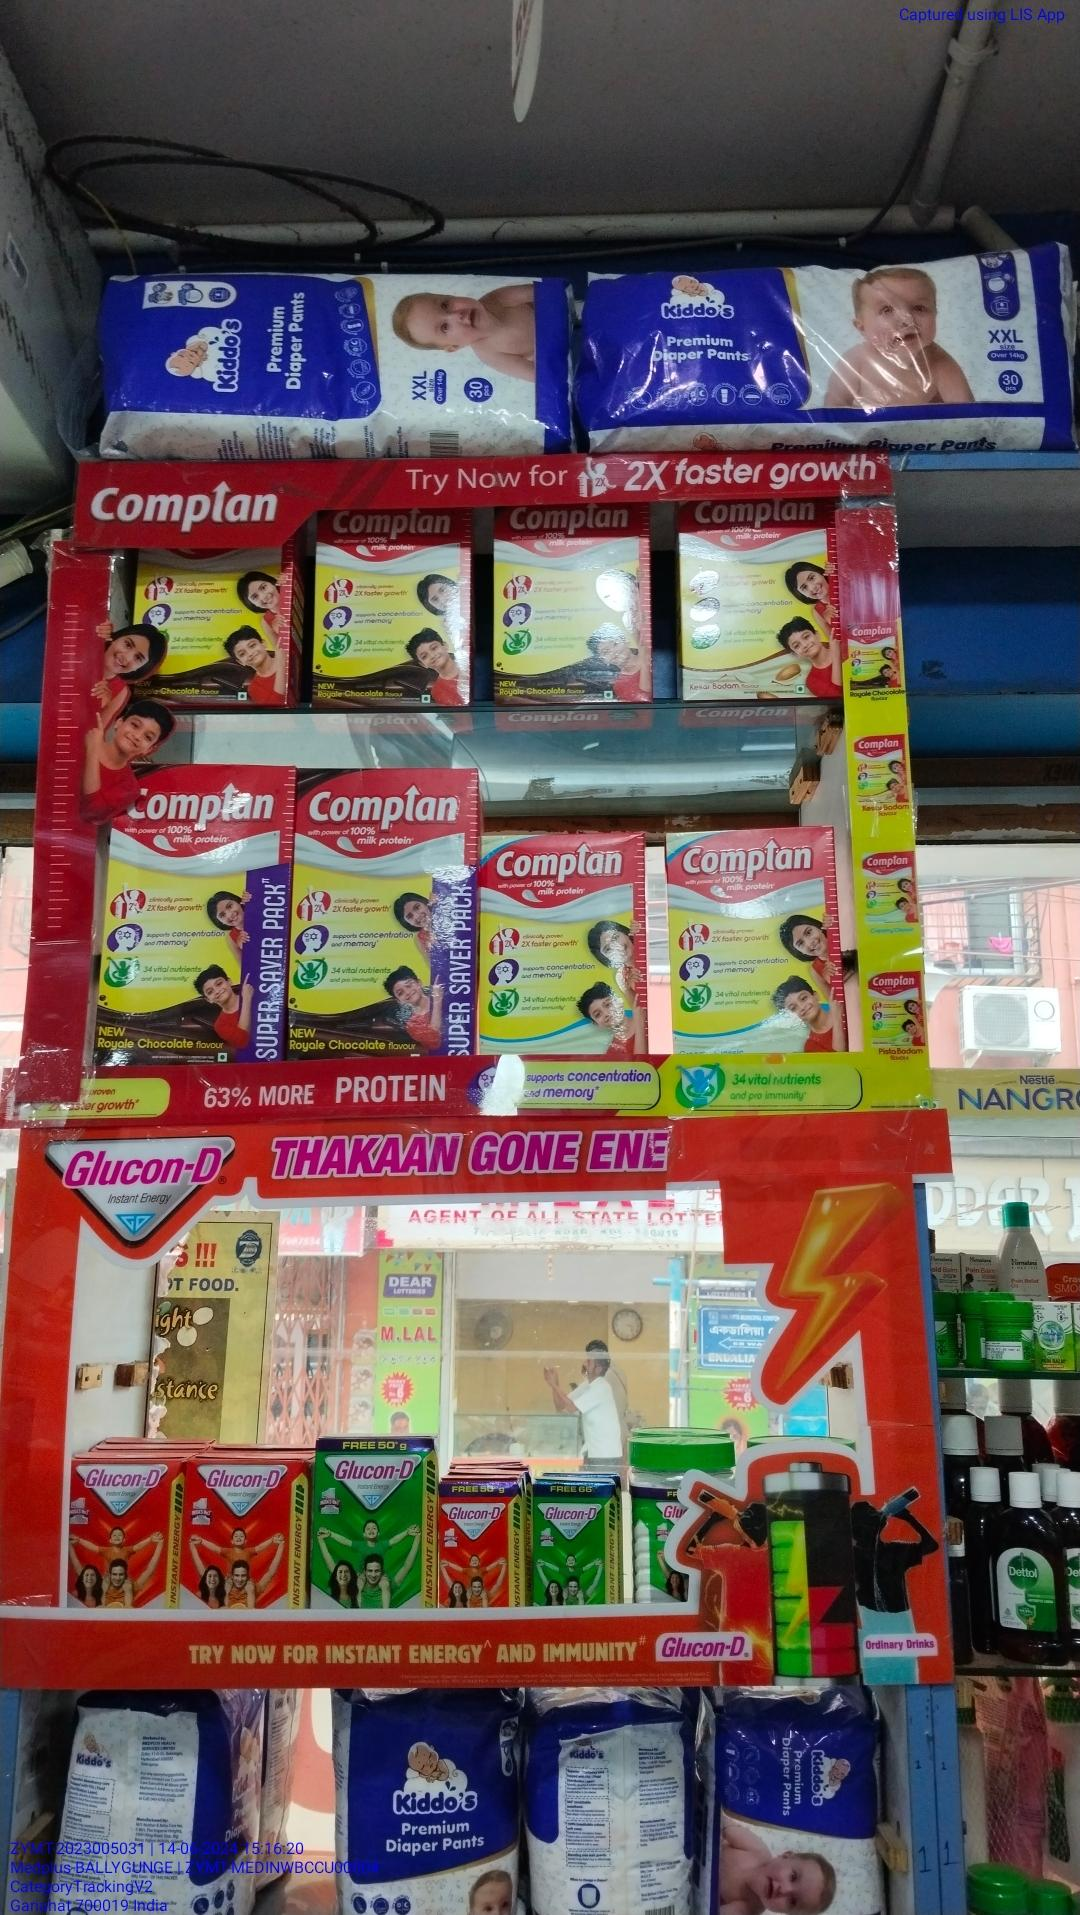COMPLAN_CHOCOLATE_1_KG_PACK: (101, 764, 287, 1063), (291, 769, 479, 1057)
COMPLAN_CHOCOLATE_500_GMS_PACK: (495, 506, 651, 713), (317, 510, 467, 708), (135, 551, 287, 706)
COMPLAN_CREAMY_CLASSIC_500_G_PACK: (668, 827, 846, 1054), (481, 835, 646, 1056)
COMPLAN_KESAR_BADAM_500_GMS_PACK: (683, 497, 835, 698)
